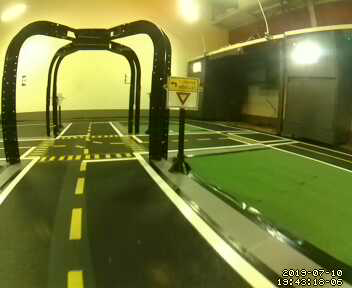Turn Yield: (165, 75, 202, 111)
